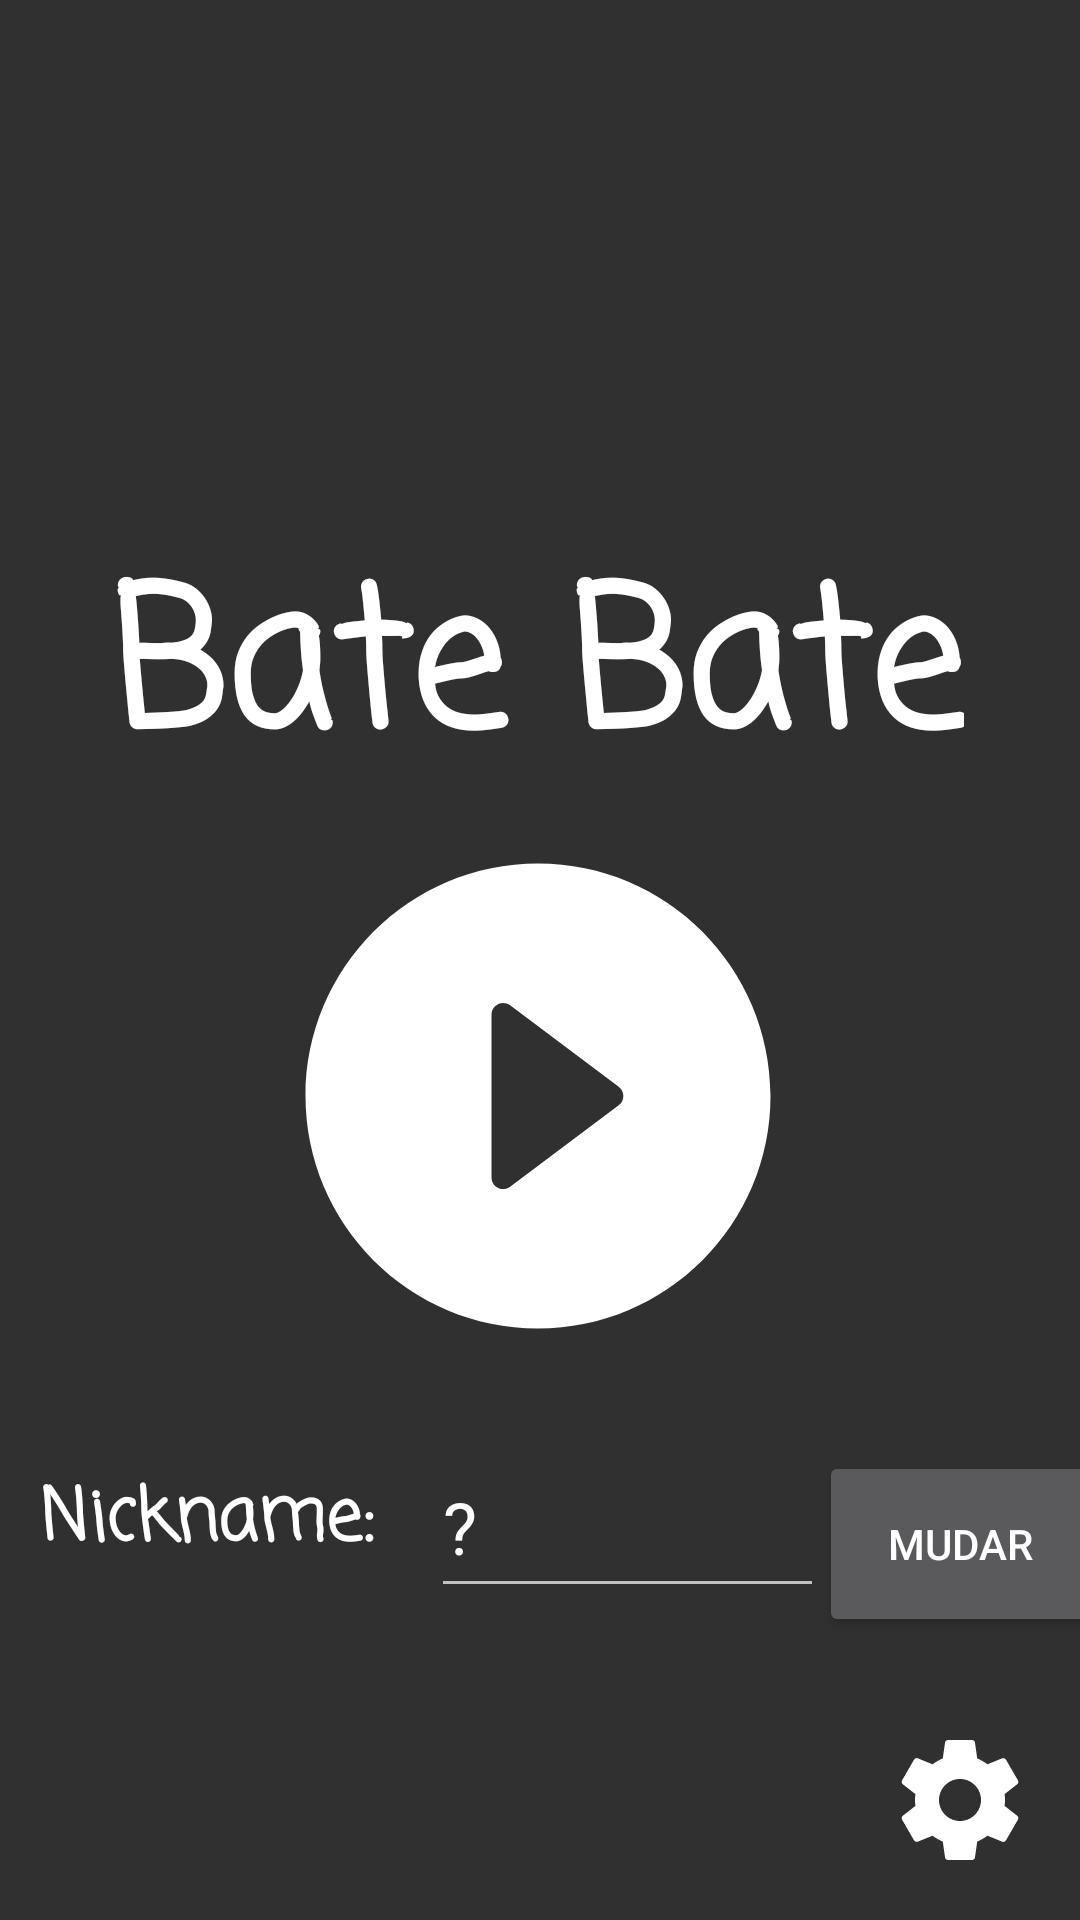

Icon click points for this 1080*1920 phone screenshot, format (x,y):
settings: (960,1800)
